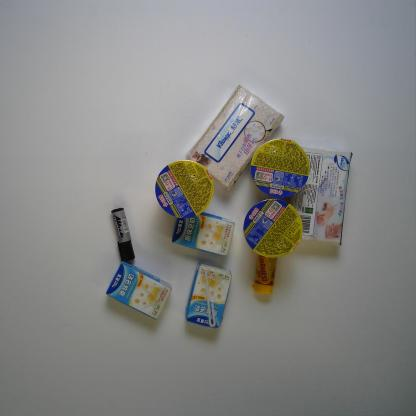Candy: (251, 254, 278, 296)
Instant Noodles: (242, 198, 304, 259), (250, 137, 311, 199), (154, 159, 214, 219)
Milk: (105, 260, 173, 321), (184, 262, 233, 330), (170, 211, 235, 257)
Stationery: (110, 207, 136, 263)
Tissue: (183, 84, 286, 192), (287, 145, 354, 248)
